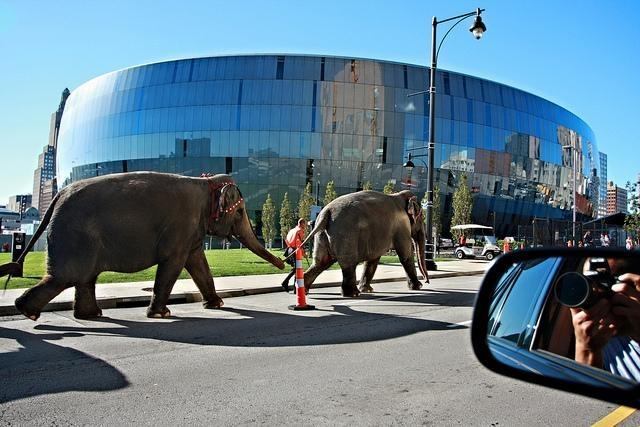car: (436, 238, 452, 250)
